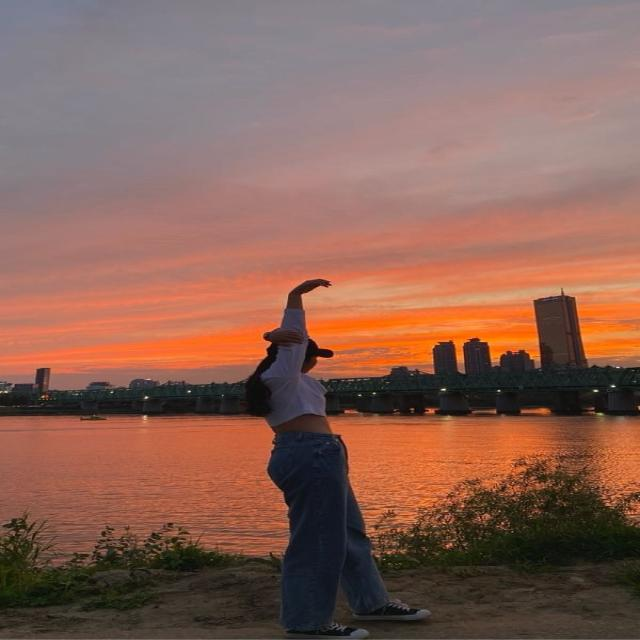denimpants: (263, 427, 389, 632)
longsleeve: (255, 306, 327, 433)
